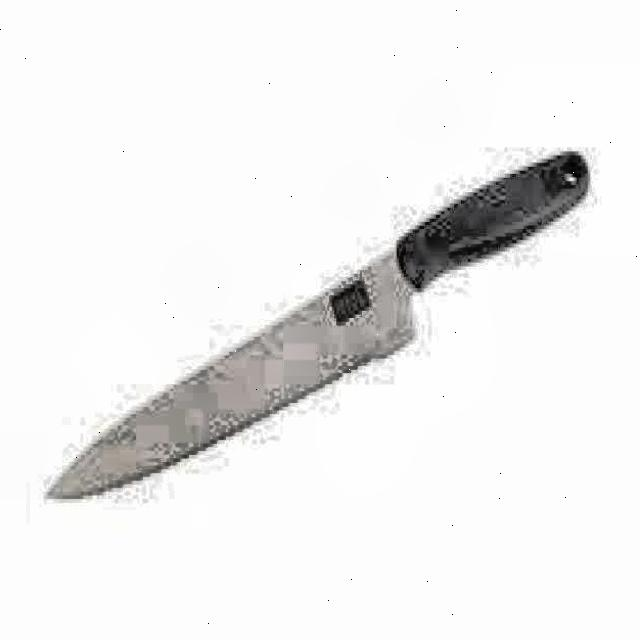knife: (44, 140, 596, 512)
